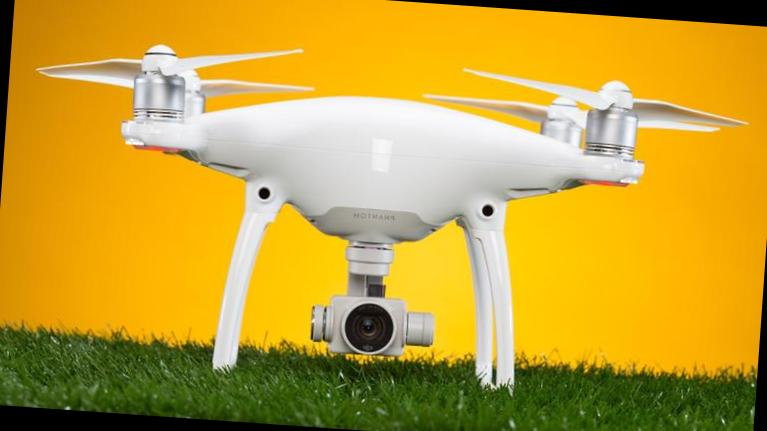drone: (17, 18, 737, 248)
